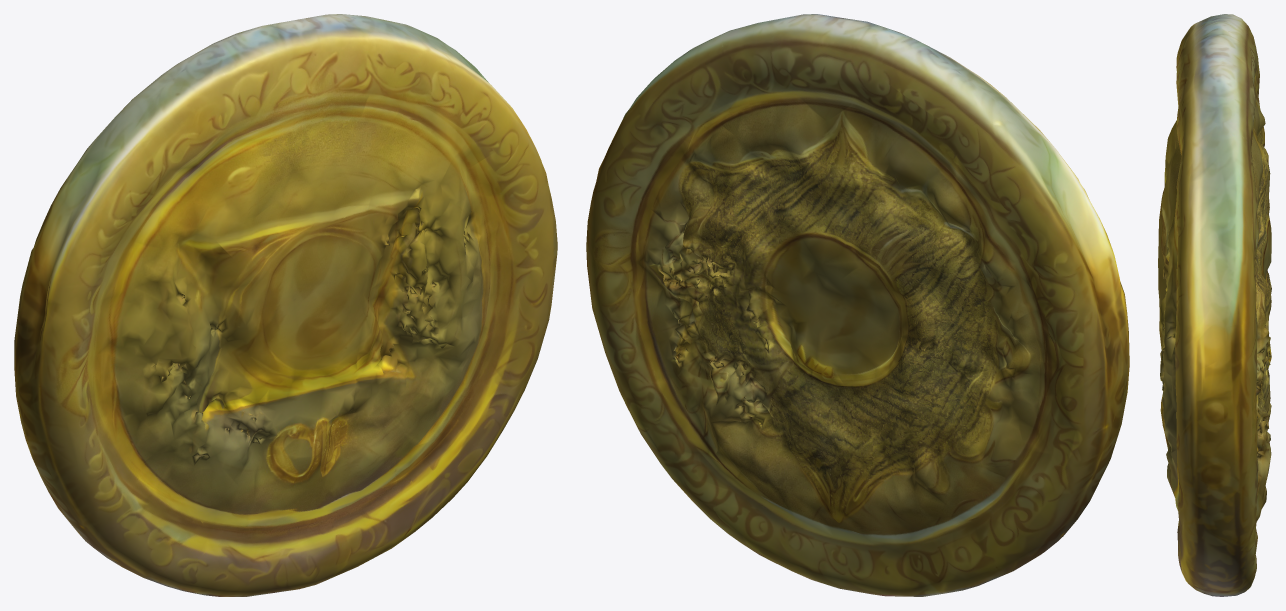
Rendered from Fantasy_Gold_Coin_0724191249_refine.fbx.
The picture shows the model from 3 angles, left to right: view 1: azimuth 30°, elevation 25°; view 2: azimuth 150°, elevation 25°; view 3: azimuth 270°, elevation 25°; orthographic projection. The views are drawn at different scales.
Visible parts, largest first — view 1: Mesh_0; view 2: Mesh_0; view 3: Mesh_0.
Part boxes in pixels (<box>): Mesh_0: <box>14,14,557,596</box>; Mesh_0: <box>586,14,1129,596</box>; Mesh_0: <box>1158,14,1271,596</box>.
Bounding box in the file's own units: 117 × 120 × 23.38.
1 material, 1 textured.
